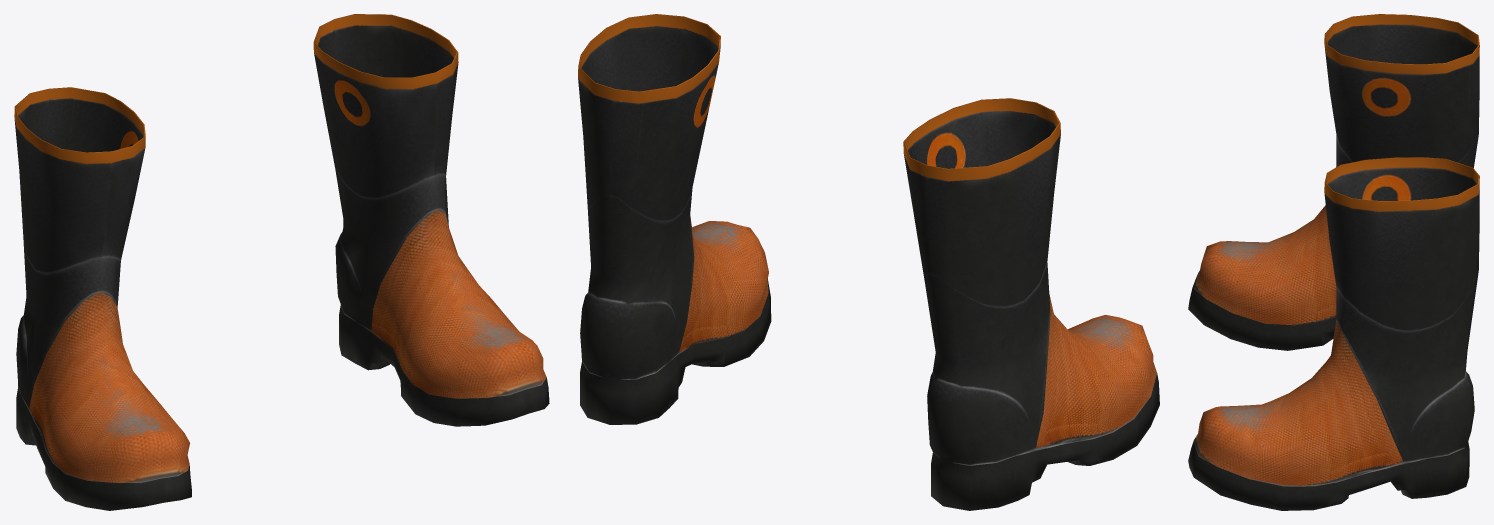
The model's file is STC_mining_boot.FBX.
3 views of the same model, side by side, from view 1: azimuth 30°, elevation 25°; view 2: azimuth 150°, elevation 25°; view 3: azimuth 270°, elevation 25° (orthographic). The views are drawn at different scales.
Parts seen in each view (by area): view 1: Left, Right; view 2: Right, Left; view 3: Left, Right.
Part boxes in pixels (box(x1,y1,x2,y2)): Left: box(313, 14, 549, 426); Right: box(14, 87, 191, 510); Right: box(903, 98, 1159, 510); Left: box(578, 14, 771, 424); Left: box(1188, 157, 1479, 510); Right: box(1188, 14, 1479, 350).
Size of the model in its own units: 52.79 by 34.67 by 30.65.
Materials: 1 (1 with a texture image).
